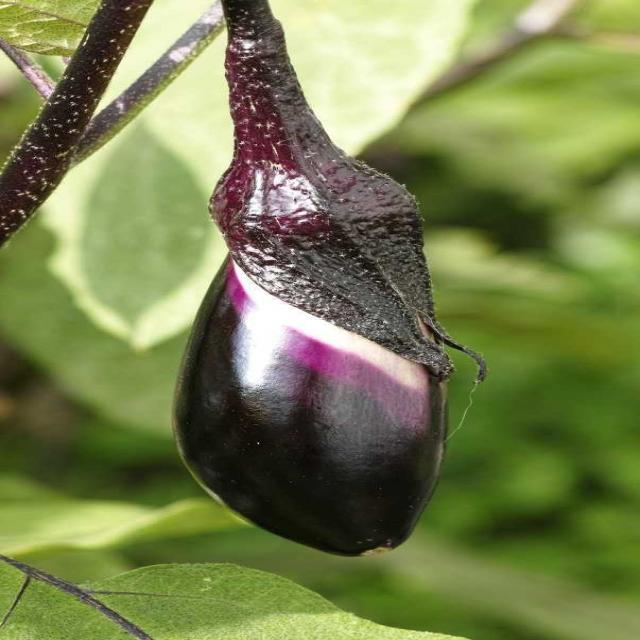Eggplant-r1Ob: (174, 0, 459, 555)
